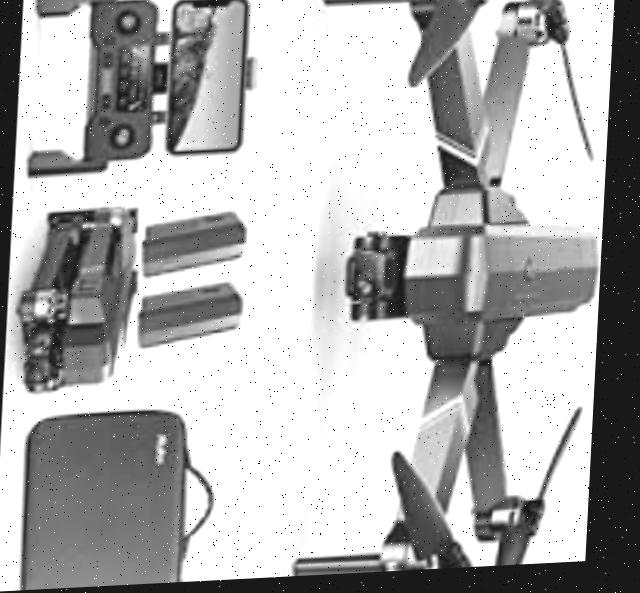drone: (270, 0, 616, 581)
